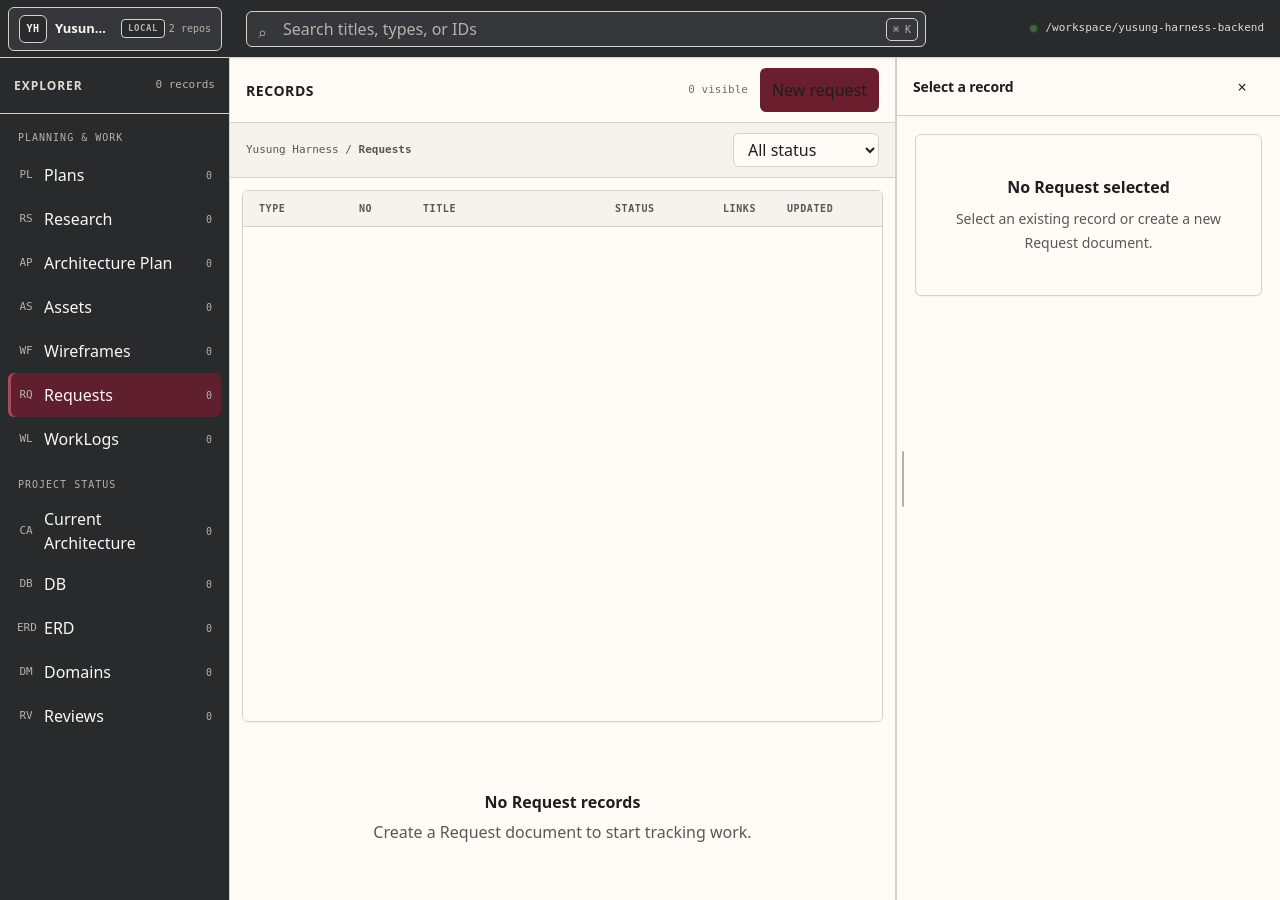
Scenario: Request central document mutations › 새 Request를 생성하면 API 결과를 중앙 문서와 record 목록에 즉시 반영한다
The image size is (1280, 900).
Click the button "New request". click: (819,90)
box: 760,68 -> 879,112
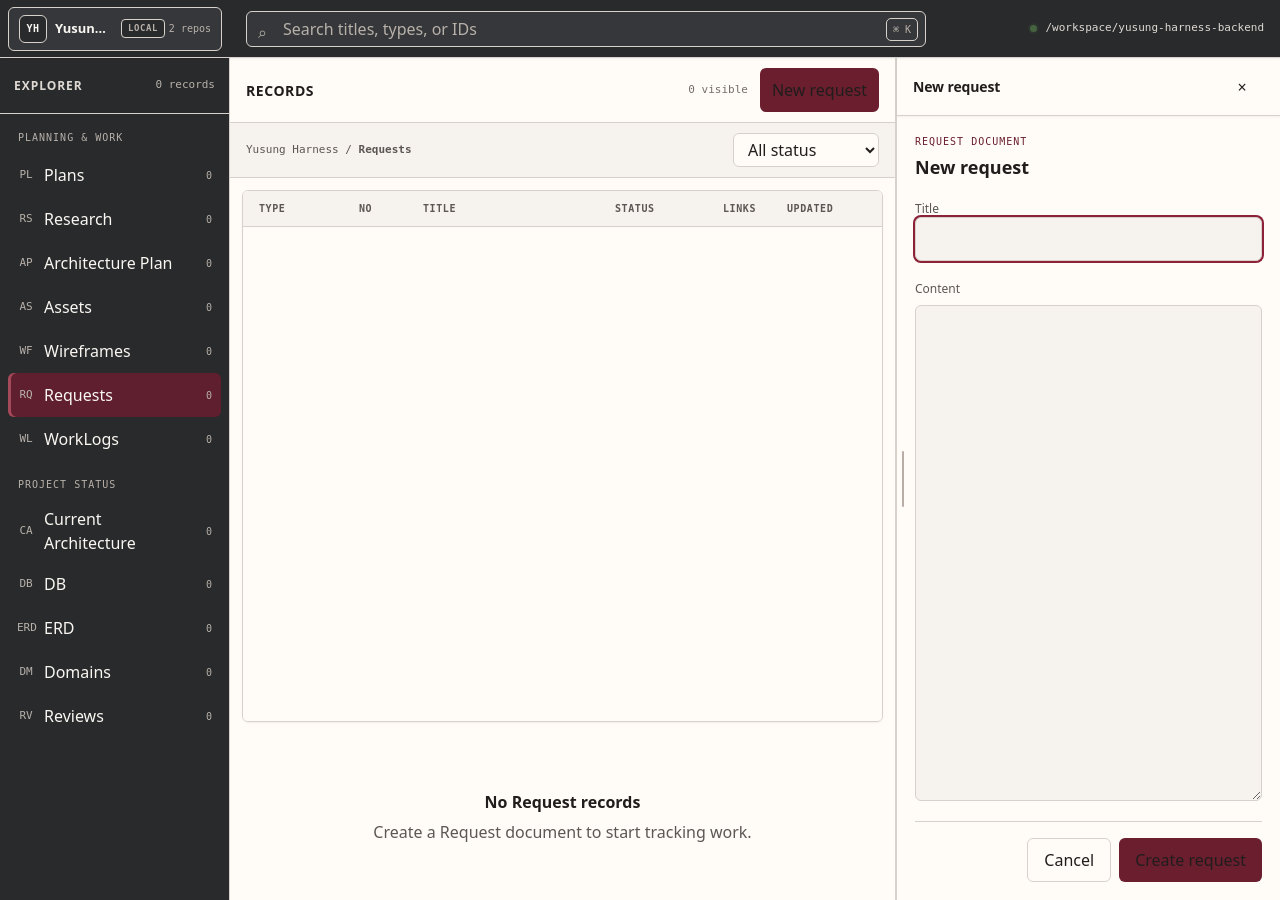
Type "Central request document" into the field labelled "Title". click: (1088,239)
box: 915,217 -> 1262,261
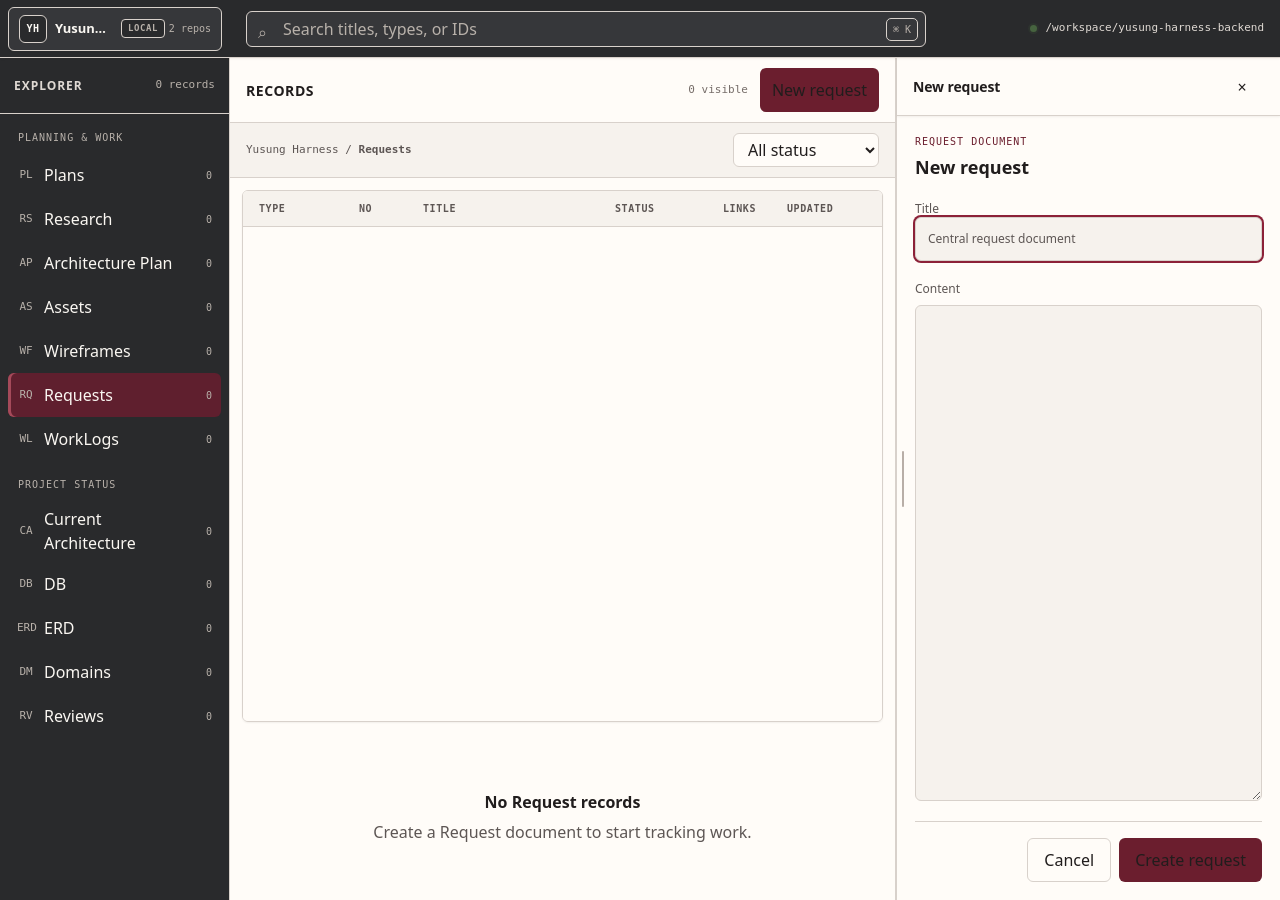
Type "Write the request in the central document node." into the text box labelled "Content". click: (1088,553)
box: 915,305 -> 1262,801
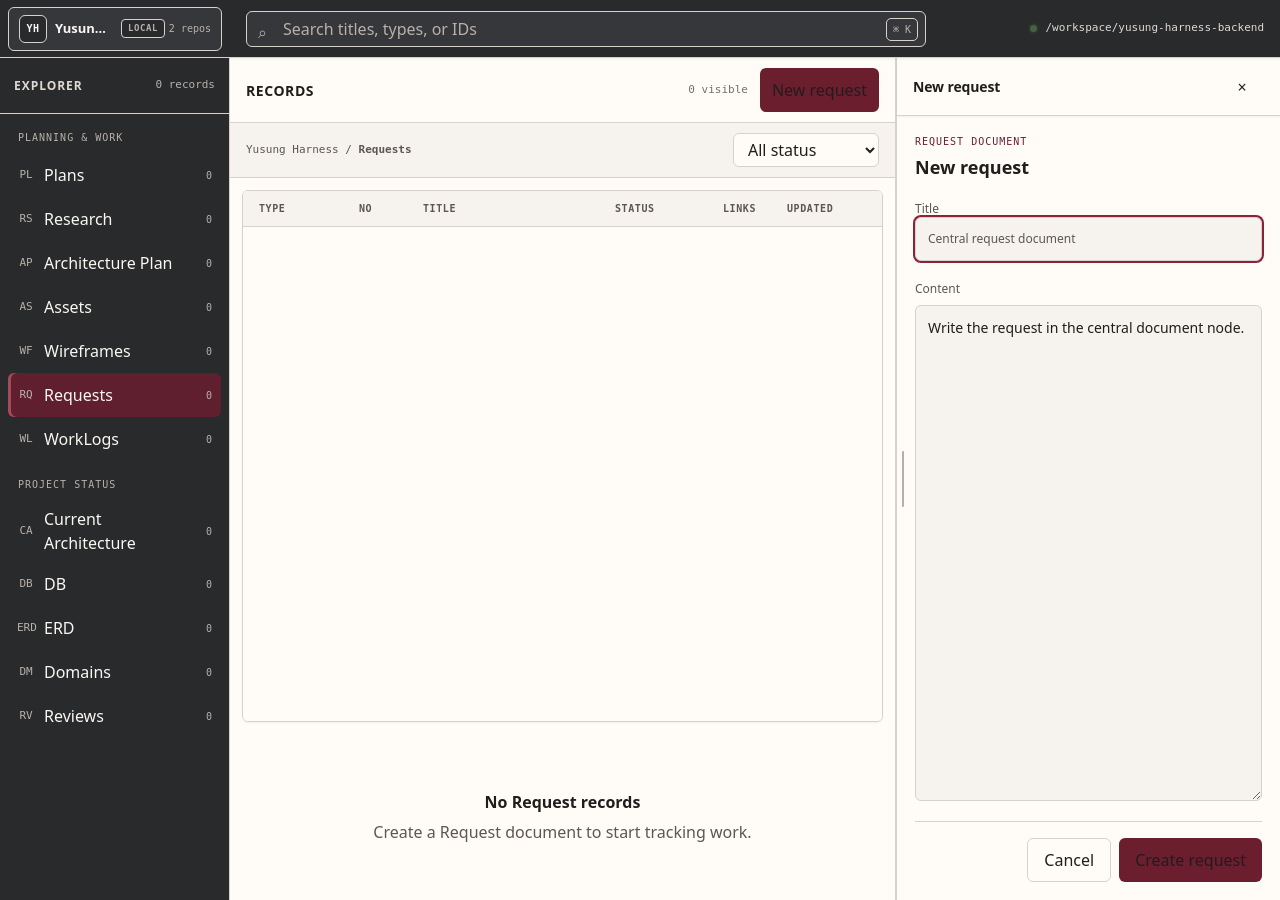
Click the button "Create request". click: (1191,860)
box: 1119,838 -> 1262,882
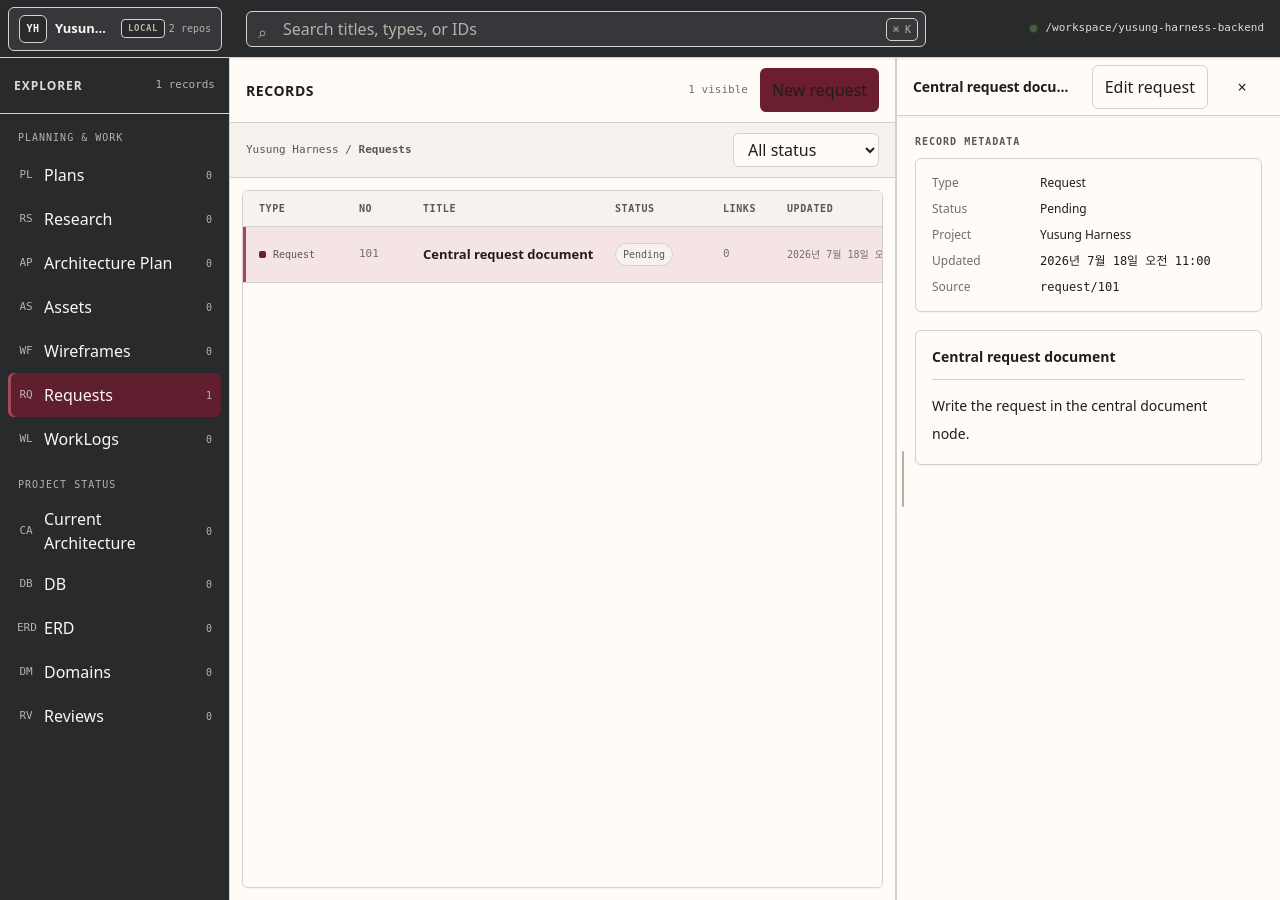
Check: the element "Central request document" shows "Write the request in the central document node.", box 932,396 -> 1207,443
